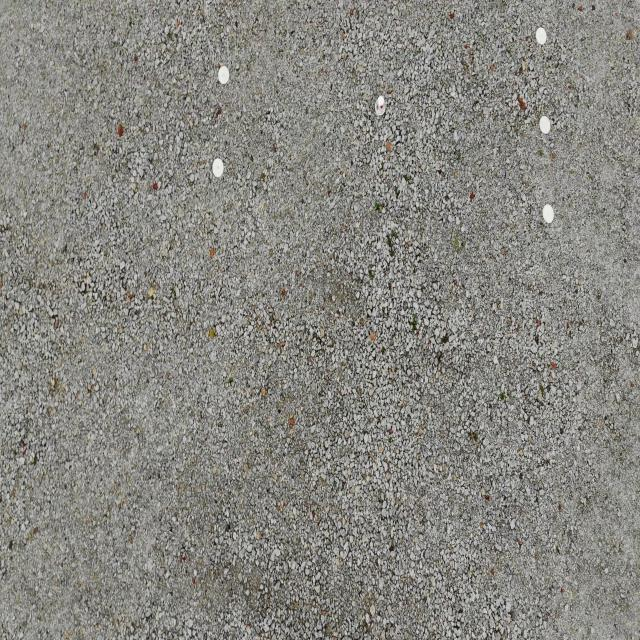rubbish: (374, 92, 387, 117)
